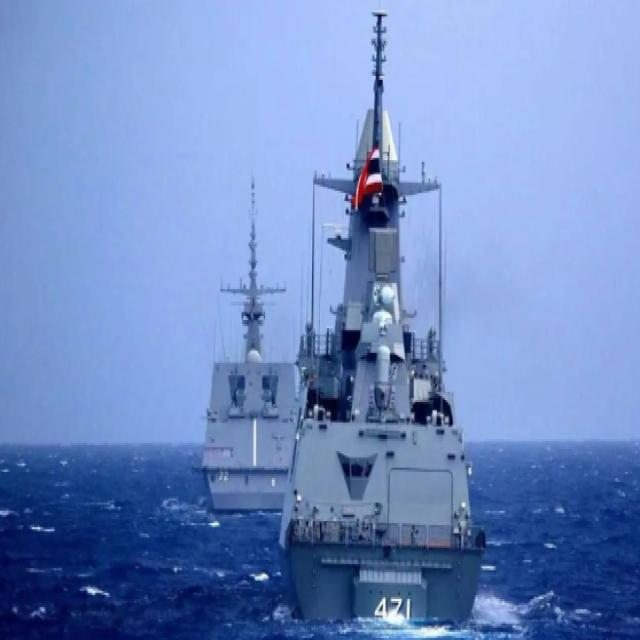navalvessels: (280, 18, 491, 624), (198, 160, 307, 522)
